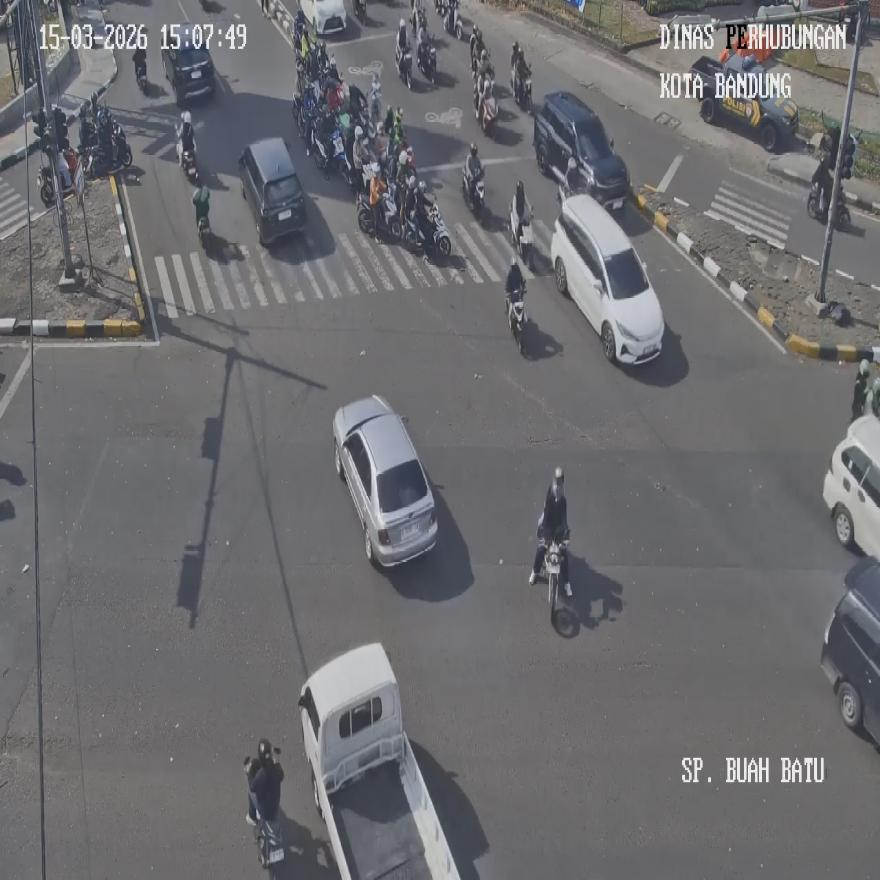Motor: (297, 642, 462, 877), (552, 193, 664, 364), (333, 395, 438, 567), (534, 90, 630, 208), (819, 556, 879, 741), (689, 49, 798, 150), (822, 413, 880, 562), (239, 136, 308, 244), (160, 24, 215, 102)
Truk: (404, 192, 452, 258), (807, 161, 850, 230), (37, 146, 84, 206), (356, 184, 400, 240), (310, 114, 347, 177), (542, 536, 568, 624), (89, 126, 132, 178), (255, 810, 284, 874), (510, 200, 534, 266), (192, 183, 212, 253), (461, 160, 485, 215), (176, 125, 198, 182), (507, 284, 525, 353), (475, 82, 496, 137), (512, 66, 532, 112), (418, 36, 436, 84), (441, 0, 462, 38), (396, 45, 411, 89), (134, 52, 148, 96), (352, 0, 366, 27)
